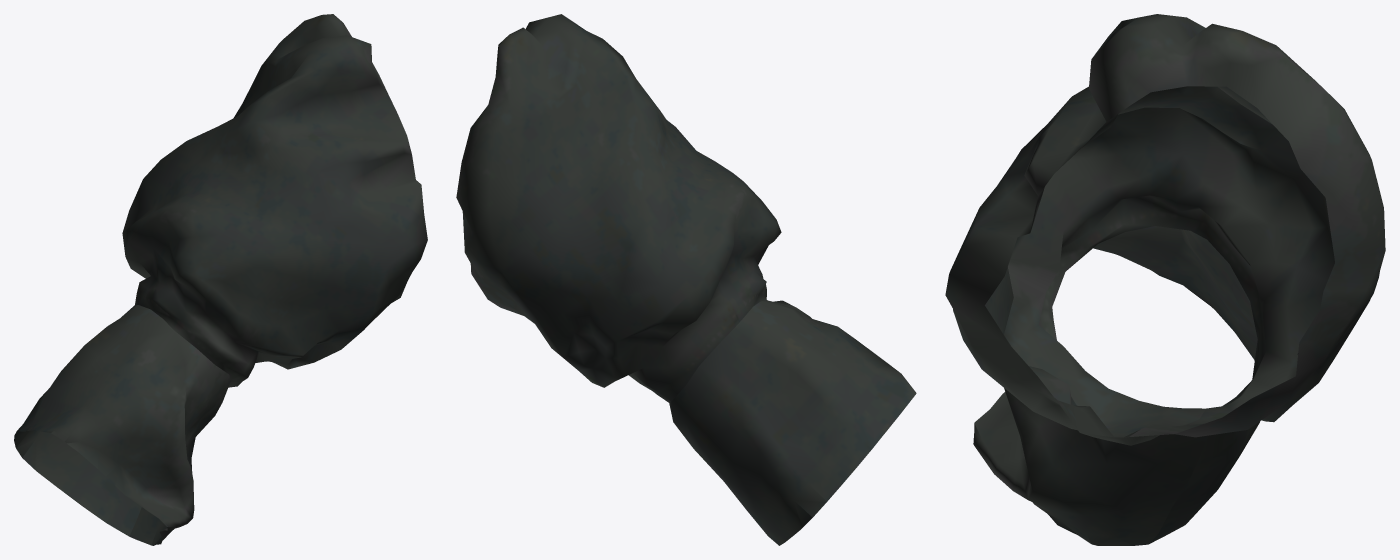
The model's file is rightarm.obj.
The picture shows the model from 3 angles, left to right: view 1: azimuth 30°, elevation 25°; view 2: azimuth 150°, elevation 25°; view 3: azimuth 270°, elevation 25°; orthographic projection. The views are drawn at different scales.
Visible parts, largest first — view 1: rightarm:Object01 rightarm:polySurface2 rightarm:polySurface4 ri; view 2: rightarm:Object01 rightarm:polySurface2 rightarm:polySurface4 ri; view 3: rightarm:Object01 rightarm:polySurface2 rightarm:polySurface4 ri.
Part boxes in pixels (x1,y1,x2,y2): rightarm:Object01 rightarm:polySurface2 rightarm:polySurface4 ri: [14, 14, 427, 545]; rightarm:Object01 rightarm:polySurface2 rightarm:polySurface4 ri: [456, 14, 916, 545]; rightarm:Object01 rightarm:polySurface2 rightarm:polySurface4 ri: [945, 14, 1385, 545].
Size of the model in its own units: 5.04 by 6.04 by 3.52.
1 material, 1 textured.
